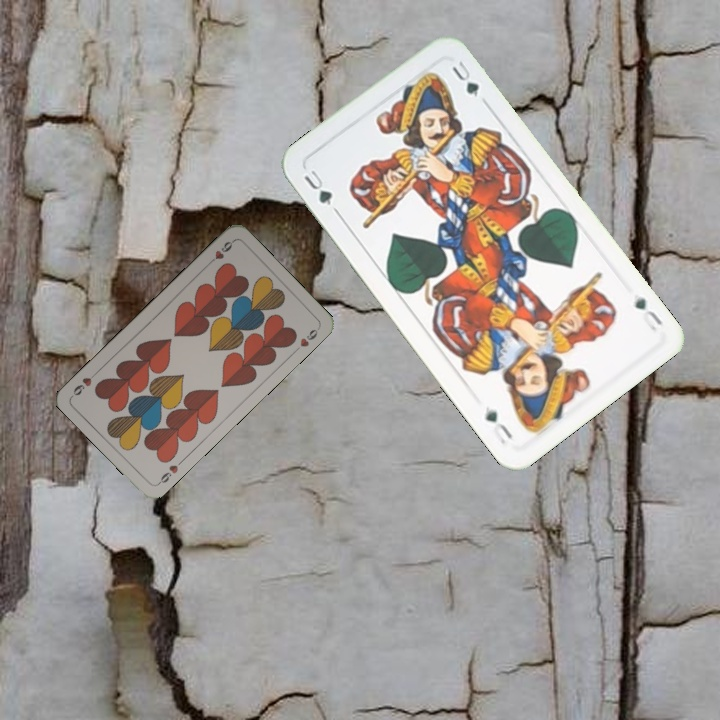GU: (299, 165, 335, 208), (630, 292, 665, 334)
H9: (154, 456, 186, 488), (204, 237, 237, 268)
